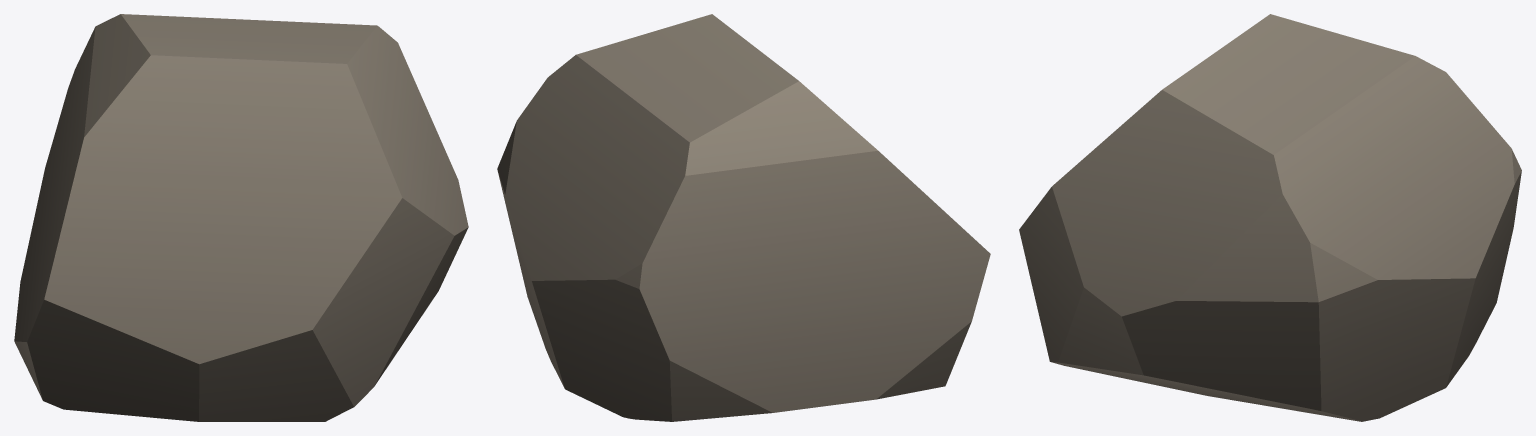
The model's file is Rock_01.fbx.
The picture shows the model from 3 angles, left to right: view 1: azimuth 30°, elevation 25°; view 2: azimuth 150°, elevation 25°; view 3: azimuth 270°, elevation 25°; orthographic projection. The views are drawn at different scales.
Visible parts, largest first — view 1: Rock_01; view 2: Rock_01; view 3: Rock_01.
Boxes of the visible parts, bbox=[...] form: Rock_01: bbox=[14, 14, 468, 421]; Rock_01: bbox=[497, 14, 990, 421]; Rock_01: bbox=[1019, 14, 1521, 421].
Size of the model in its own units: 1.43 by 1.07 by 1.39.
